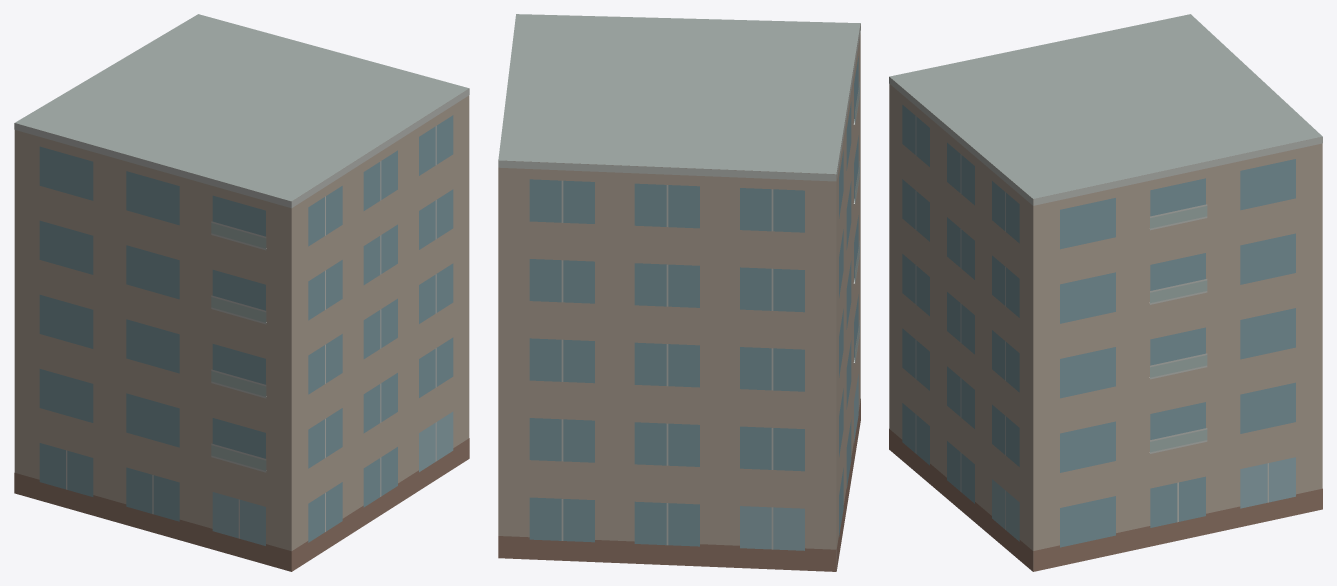
The model's file is survey-upis-32862252.glb.
3 renders of one model, left to right at view 1: azimuth 30°, elevation 25°; view 2: azimuth 150°, elevation 25°; view 3: azimuth 270°, elevation 25°, orthographic. The views are drawn at different scales.
Parts seen in each view (by area): view 1: survey-upis-32862252.tmp; view 2: survey-upis-32862252.tmp; view 3: survey-upis-32862252.tmp.
Part boxes in pixels (x1,y1,x2,y2): survey-upis-32862252.tmp: (14, 14, 469, 571); survey-upis-32862252.tmp: (498, 14, 860, 571); survey-upis-32862252.tmp: (889, 14, 1322, 571).
Bounding box in the file's own units: 14.11 × 13.25 × 13.98.
